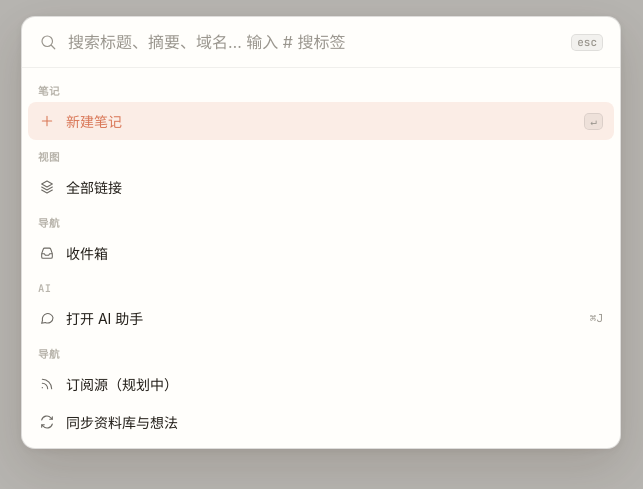
Scenario: CommandPalette › only exposes one capability-gated new-note command for empty and matching queries
The width and height of the screenshot is (643, 489).
Expected: the text "新建笔记" is shown once, [66,113,122,130]
Press Enter in the field with placeholder "搜索标题、摘要、域名… 输入 # 搜标签", box [68,32,560,52]
Type "新建笔记" into the field with placeholder "搜索标题、摘要、域名… 输入 # 搜标签".
click(314, 42); type("新建笔记")  # box [68,32,560,52]
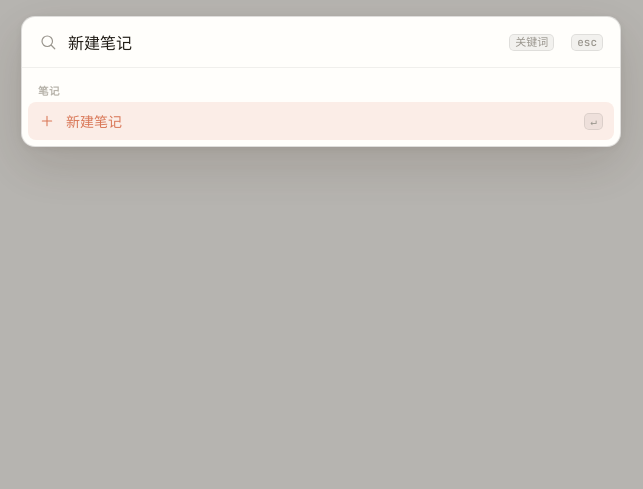
Expected: the text "新建笔记" is shown once, [66,113,122,130]
